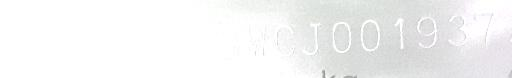letter: (470, 8, 498, 48), (443, 10, 469, 48), (414, 14, 440, 52), (49, 34, 77, 69), (299, 18, 323, 58), (131, 29, 157, 65), (216, 24, 240, 62), (104, 32, 130, 67), (159, 28, 185, 62), (359, 17, 383, 53), (329, 18, 353, 54), (273, 21, 297, 57), (244, 24, 268, 59), (188, 27, 212, 62), (79, 32, 103, 65), (25, 34, 47, 69), (388, 16, 406, 52)
